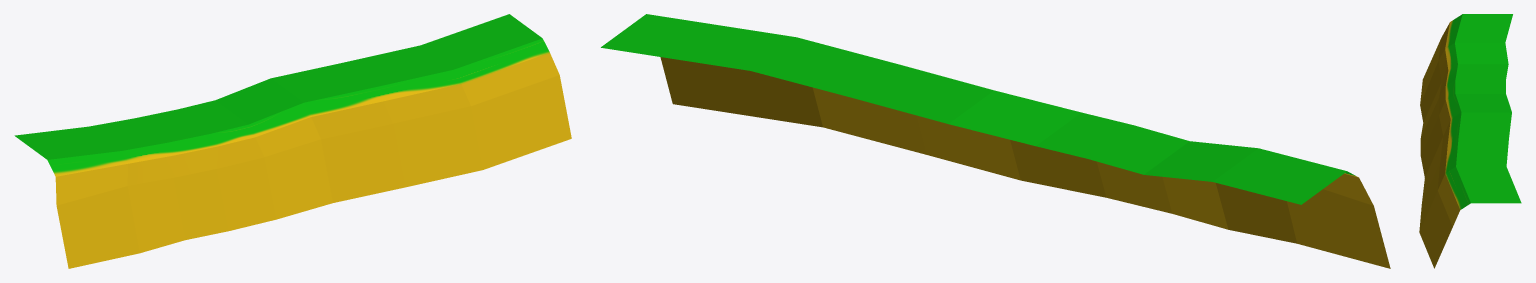
File: rock.fbx
3 views of the same model, side by side, from view 1: azimuth 30°, elevation 25°; view 2: azimuth 150°, elevation 25°; view 3: azimuth 270°, elevation 25° (orthographic). The views are drawn at different scales.
Visible parts, largest first — view 1: pCube1; view 2: pCube1; view 3: pCube1.
Boxes of the visible parts, box(x1,y1,x2,y2) form: pCube1: box(14, 14, 571, 268); pCube1: box(601, 14, 1390, 268); pCube1: box(1419, 14, 1521, 268).
Bounding box in the file's own units: 809 × 134 × 185.
1 material, 1 textured.
